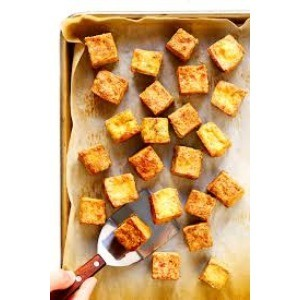tofu_brain food: (77, 24, 249, 287)
